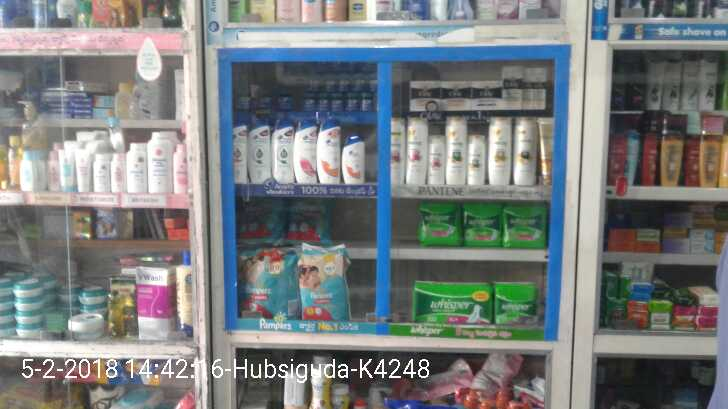vicks: (243, 71, 382, 116)
